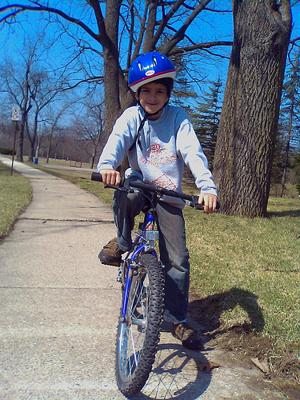person: (96, 49, 218, 342)
